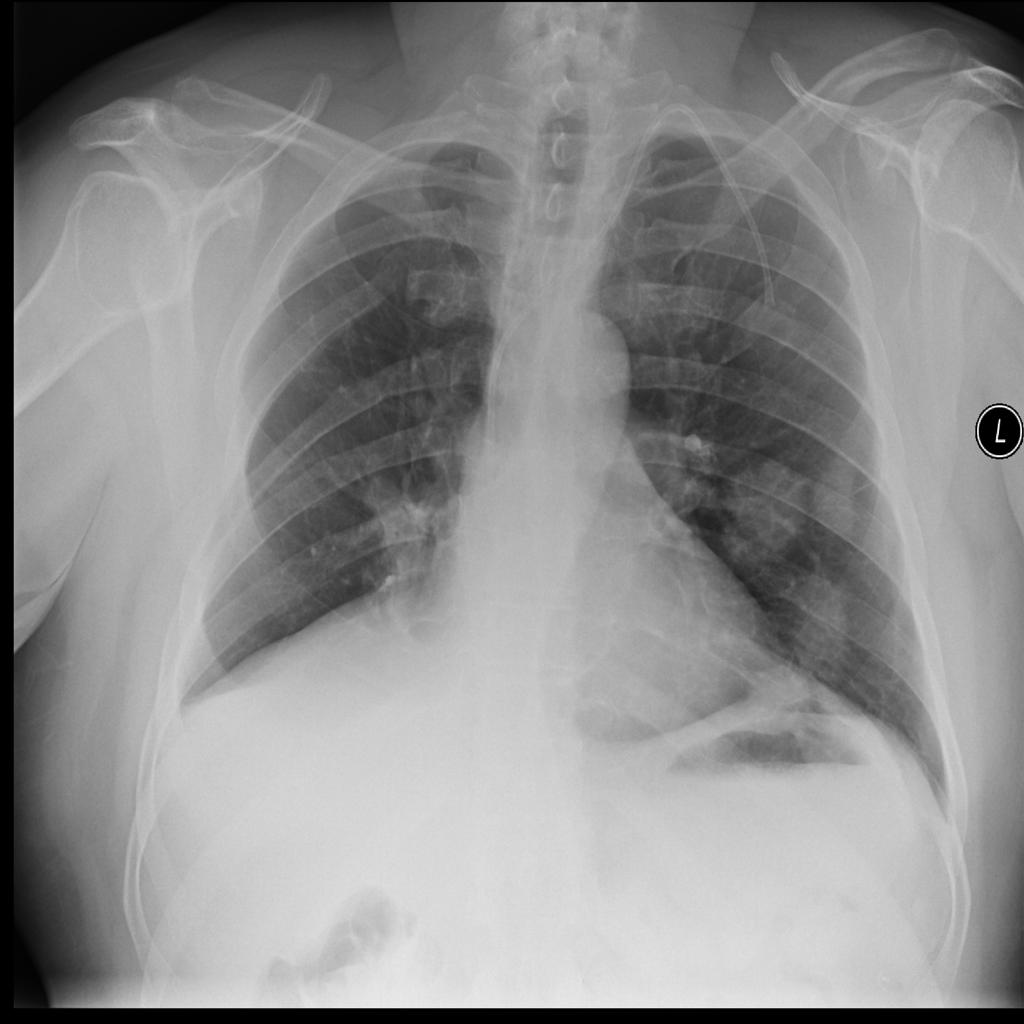nodule: (714, 443, 824, 576)
